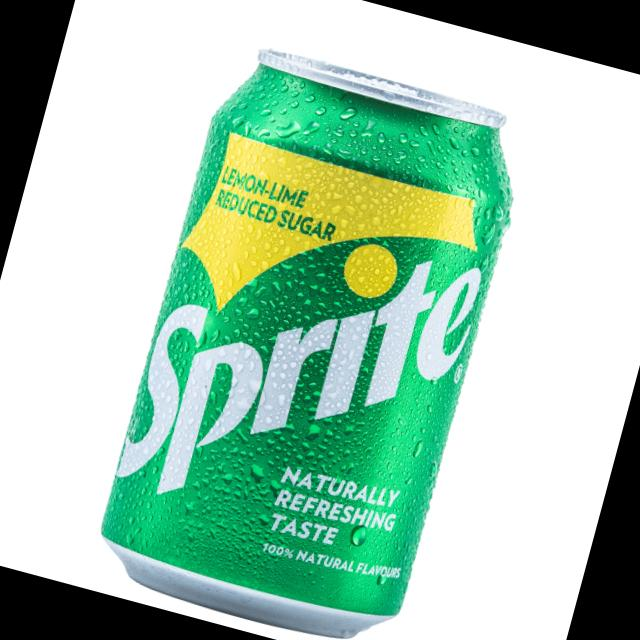sprite: (65, 21, 549, 640)
